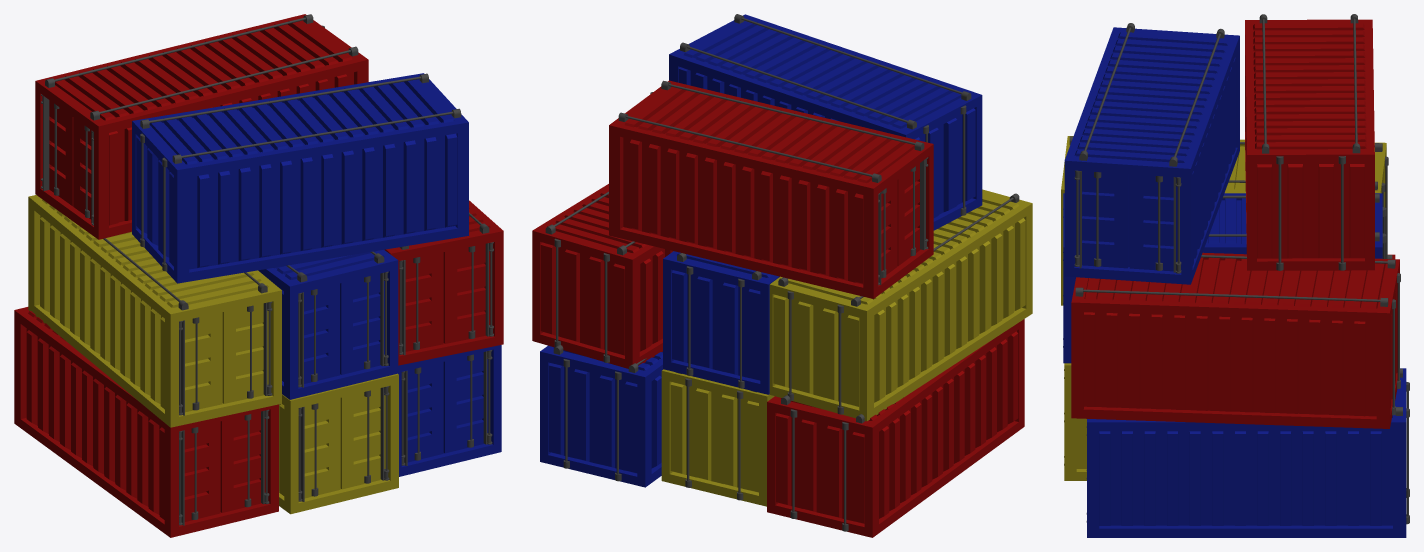
The model's file is tumpukan2.obj.
3 renders of one model, left to right at view 1: azimuth 30°, elevation 25°; view 2: azimuth 150°, elevation 25°; view 3: azimuth 270°, elevation 25°, orthographic. The views are drawn at different scales.
Visible parts, largest first — view 1: ContainerMerah.003; view 2: ContainerMerah.003; view 3: ContainerMerah.003.
Part boxes in pixels (box(x1,y1,x2,y2)): ContainerMerah.003: box(14, 14, 503, 537); ContainerMerah.003: box(532, 14, 1032, 537); ContainerMerah.003: box(1061, 14, 1409, 537).
Size of the model in its own units: 19.87 by 18.91 by 16.49.
